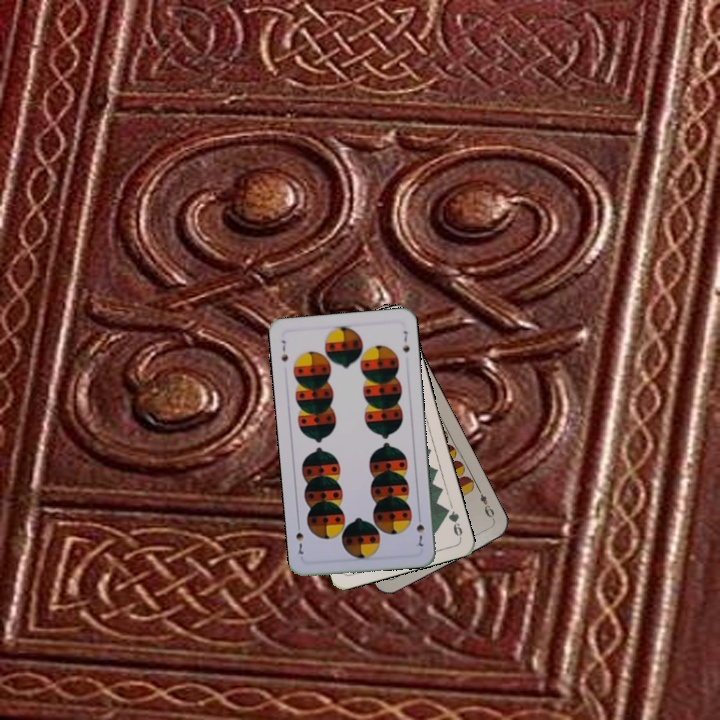E9: (474, 485, 497, 523)
G9: (440, 503, 465, 541)
S7: (412, 510, 427, 549), (277, 336, 291, 364)
